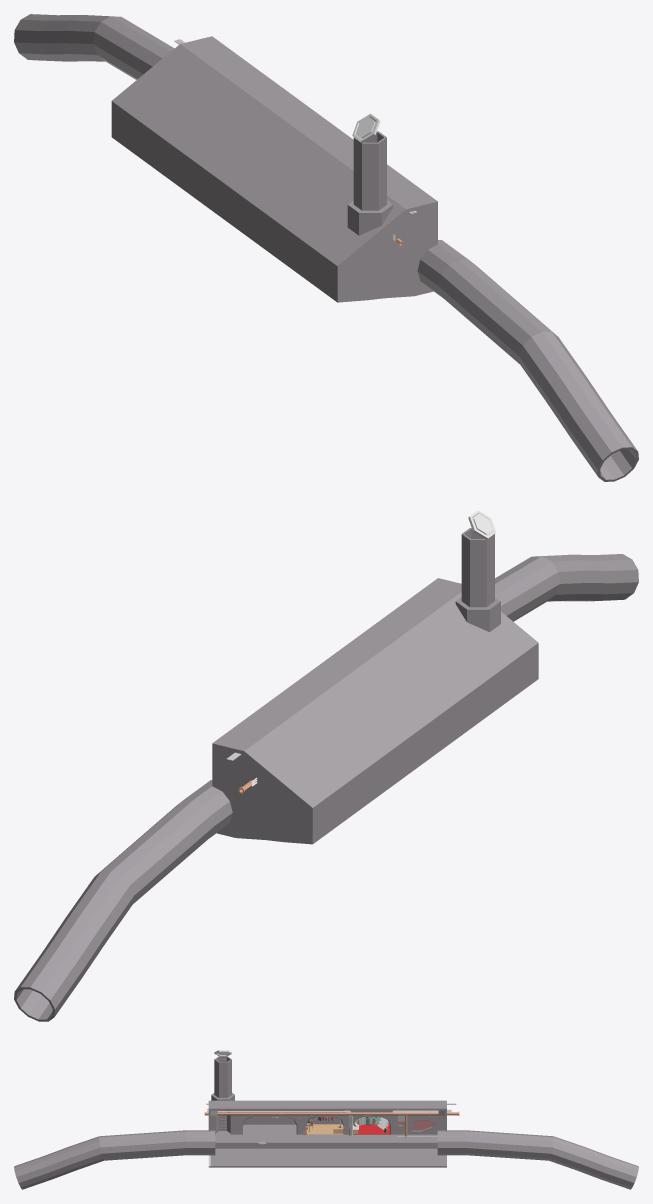
File: Mesh_menu.fbx
3 views of the same model, one above another, from view 1: azimuth 30°, elevation 25°; view 2: azimuth 150°, elevation 25°; view 3: azimuth 270°, elevation 25° (orthographic). The views are drawn at different scales.
Parts seen in each view (by area): view 1: menu mesh; view 2: menu mesh; view 3: menu mesh.
Boxes of the visible parts, box(x1,y1,x2,y2) form: menu mesh: box(14, 14, 638, 481); menu mesh: box(14, 510, 638, 1021); menu mesh: box(14, 1050, 638, 1189).
Bounding box in the file's own units: 2387 × 3696 × 16660.
